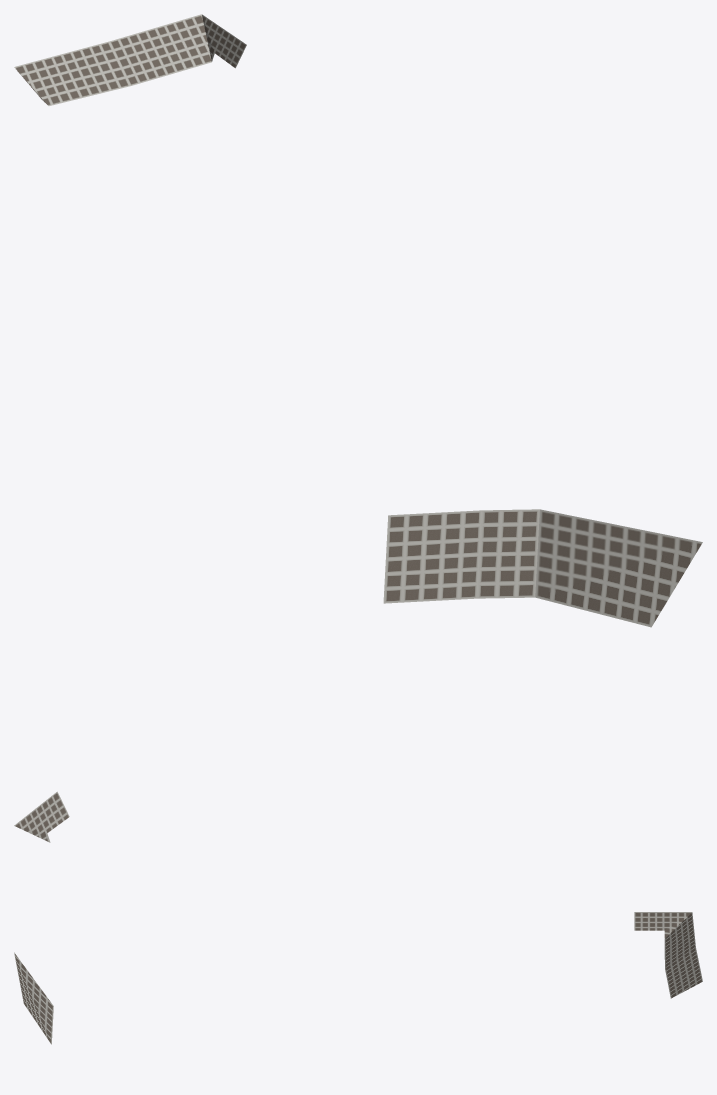
Rendered from kd_stage_135ebf_3_25.glb.
3 renders of one model, top to bottom at view 1: azimuth 30°, elevation 25°; view 2: azimuth 150°, elevation 25°; view 3: azimuth 270°, elevation 25°, orthographic. The views are drawn at different scales.
Parts seen in each view (by area): view 1: kd_stage_135ebf_3_25; view 2: kd_stage_135ebf_3_25; view 3: kd_stage_135ebf_3_25.
Part boxes in pixels (<box>): kd_stage_135ebf_3_25: <box>14,14,246,105</box>; kd_stage_135ebf_3_25: <box>14,509,702,842</box>; kd_stage_135ebf_3_25: <box>14,912,702,1044</box>.
Bounding box in the file's own units: 68.29 × 25.3 × 205.
Materials: 1 (1 with a texture image).
